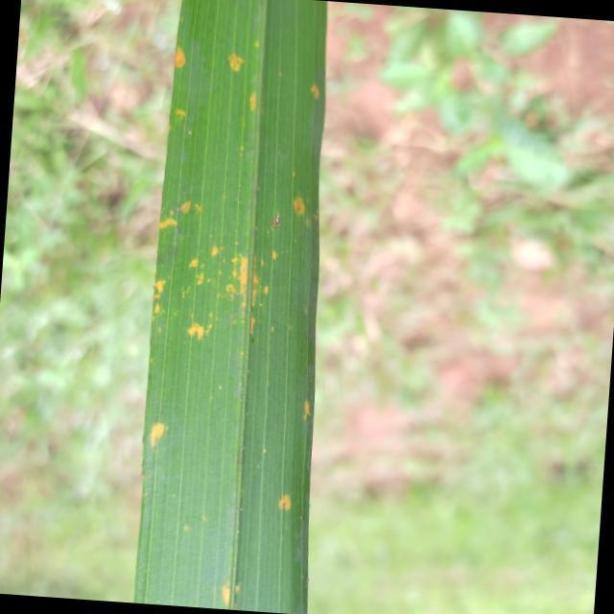Kalium: (134, 0, 330, 614)
